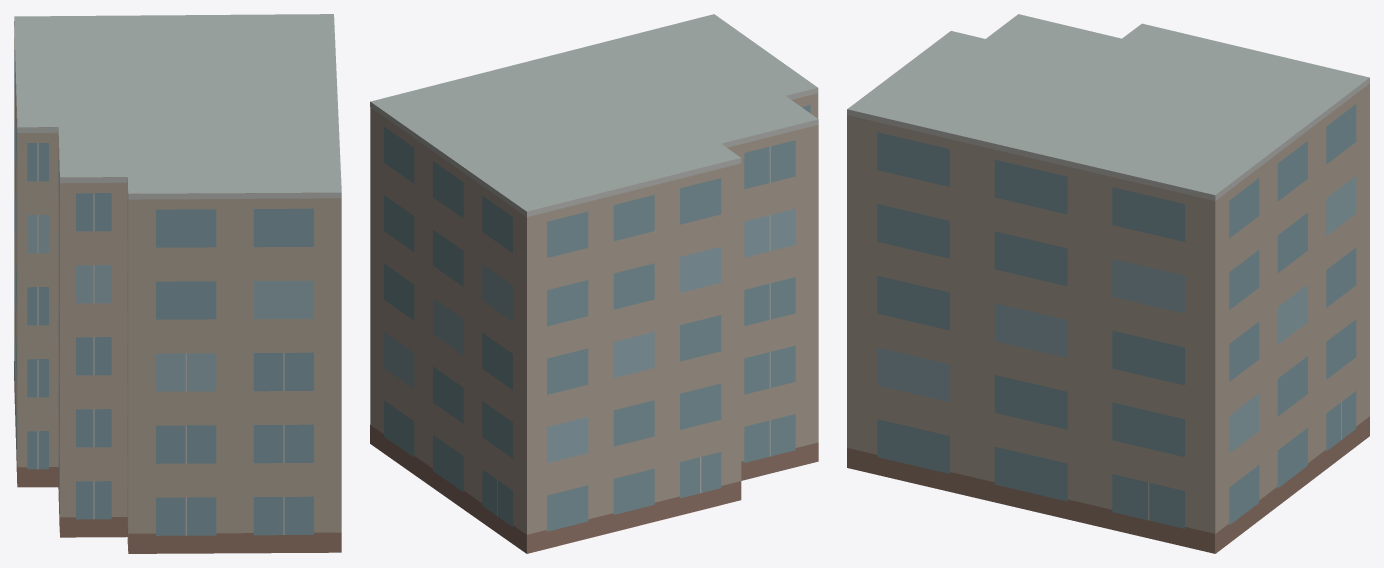
Rendered from survey-upis-32876837.glb.
The picture shows the model from 3 angles, left to right: view 1: azimuth 30°, elevation 25°; view 2: azimuth 150°, elevation 25°; view 3: azimuth 270°, elevation 25°; orthographic projection. The views are drawn at different scales.
Parts seen in each view (by area): view 1: survey-upis-32876837.tmp; view 2: survey-upis-32876837.tmp; view 3: survey-upis-32876837.tmp.
Boxes of the visible parts, x1=… form: survey-upis-32876837.tmp: x1=14, y1=14, x2=341, y2=553; survey-upis-32876837.tmp: x1=370, y1=14, x2=818, y2=553; survey-upis-32876837.tmp: x1=847, y1=14, x2=1369, y2=553.
Size of the model in its own units: 16.54 by 15.25 by 20.15.
